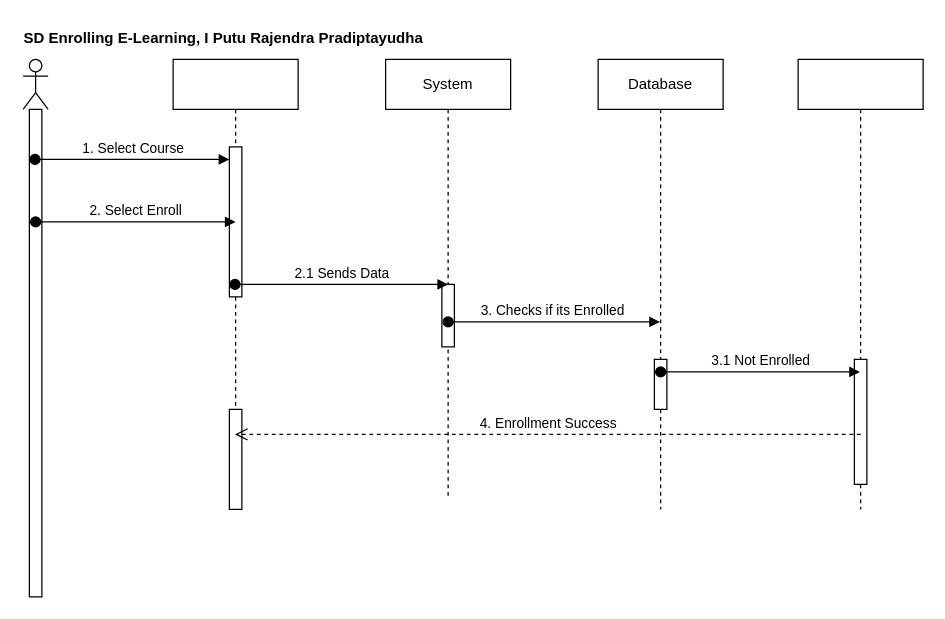
This 945x619 diagram has some shape labels left out. The shapes that lost their labels are listed below. From the top down, each one's box as (x1, y1, x2, y2) in pixels, then its label:
(172, 58, 298, 509): Dashboard
(797, 58, 923, 509): Course
